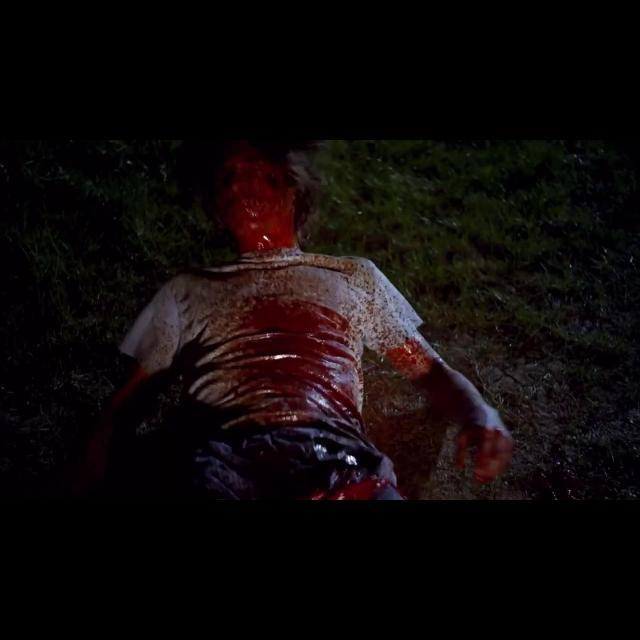blood: (134, 140, 512, 500)
